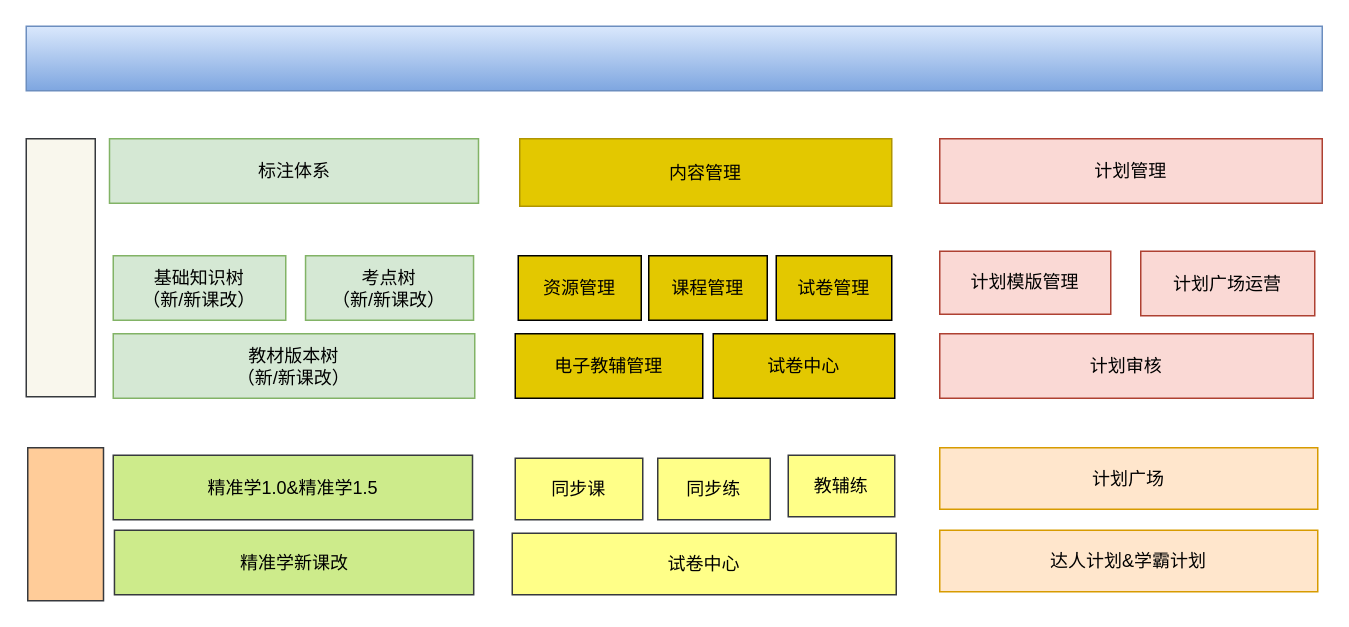
Image size: 1349x627. Some labels were removed from this diagram. The centre of each missing label's shape, as x and y in pixels:
CMS内容生产平台: (x=673, y=58)
后台功能模块: (x=60, y=267)
对应C端业务: (x=65, y=523)
